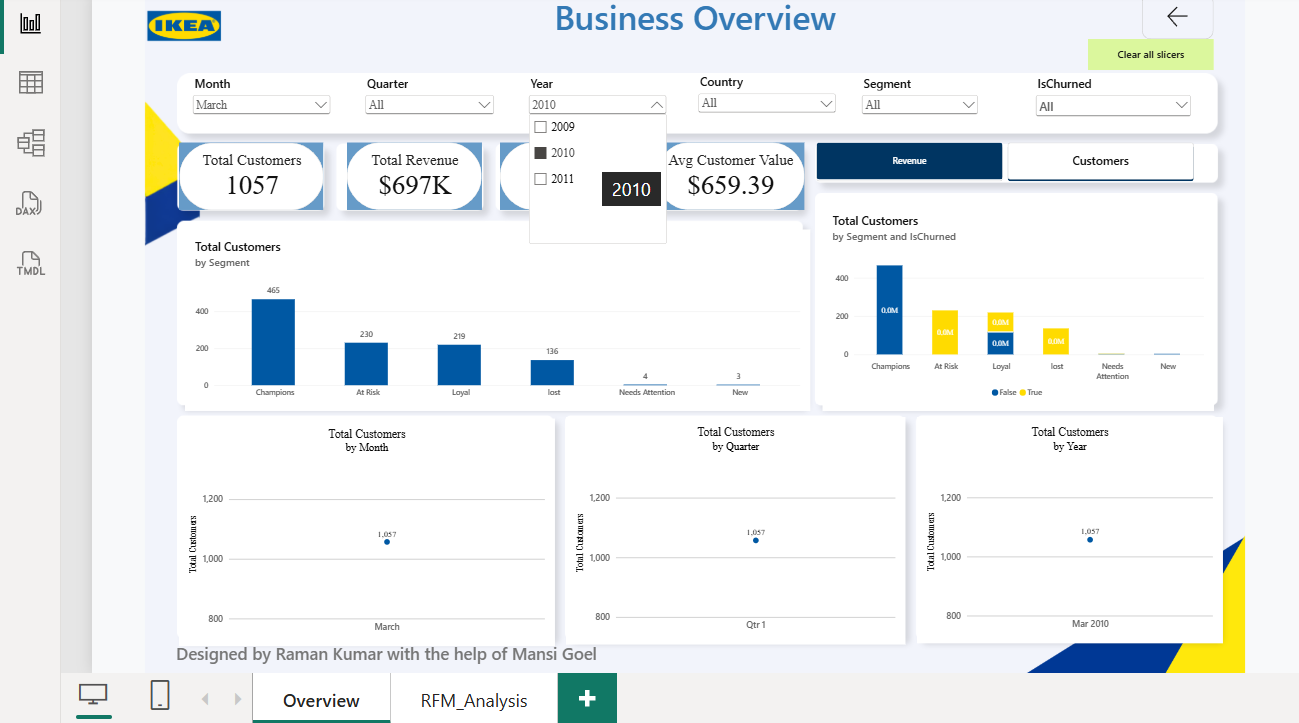

What the dashboard file says about the page in this screenshot:
{"tool":"powerbi","page":{"name":"Overview","canvas":[1920,1080],"ordinal":0},"visuals":[{"type":"cardVisual","fields":{"Data":["Sheet1.Total Customers"]},"box":[138.4,236.2,229,107.4],"z":0},{"type":"lineChart","fields":{"Category":["Sheet1.InvoiceDate.Variation.Date Hierarchy.Month"],"Y":["Sheet1.Total Customers"]},"box":[137.8,673.3,597.8,362.2],"z":0,"group":"g1"},{"type":"cardVisual","fields":{"Data":["Sheet1.Total Revenue"]},"box":[405.6,236.2,214.7,107.4],"z":1000},{"type":"lineChart","fields":{"Category":["Sheet1.InvoiceDate.Variation.Date Hierarchy.Quarter"],"Y":["Sheet1.Total Customers"]},"box":[753.4,671.1,540,362.2],"z":1000,"group":"g1"},{"type":"cardVisual","fields":{"Data":["Sheet1.Churned %"]},"box":[649,236.2,226.7,107.4],"z":2000},{"type":"lineChart","fields":{"Category":["Sheet1.InvoiceDate.Variation.Date Hierarchy.Year"],"Y":["Sheet1.Total Customers"]},"box":[1311.1,671.1,486.7,360],"z":2000,"group":"g1"},{"type":"cardVisual","fields":{"Data":["Sheet1.Avg Customer Value"]},"box":[897.1,236.2,236.2,107.4],"z":3000},{"type":"columnChart","fields":{"Category":["Sheet1.Segment"],"Y":["Sheet1.Total Customers"]},"box":[148.4,372.7,994.9,288.7],"z":3000,"group":"g1"},{"type":"slicer","fields":{"Values":["Sheet1.Segment"]},"box":[1218.8,128.6,195.3,91.5],"z":4000},{"type":"columnChart","fields":{"Category":["Sheet1.Segment"],"Series":["Sheet1.IsChurned"],"Y":["Sheet1.Total Customers"]},"box":[1162.4,332.1,622.7,329.3],"z":4000,"group":"g1"},{"type":"slicer","fields":{"Values":["Sheet1.Country"]},"box":[959.2,126.1,229,90.7],"z":5000},{"type":"bookmarkNavigator","box":[1152.3,240,601.3,57.3],"z":5000,"group":"g1"},{"type":"slicer","fields":{"Values":["Sheet1.InvoiceDate.Variation.Date Hierarchy.Year"]},"box":[689.7,128.6,229,90.7],"z":6000},{"type":"slicer","fields":{"Values":["Sheet1.InvoiceDate.Variation.Date Hierarchy.Quarter"]},"box":[430.2,128.6,214.7,90.7],"z":7000},{"type":"slicer","fields":{"Values":["Sheet1.InvoiceDate.Variation.Date Hierarchy.Month"]},"box":[155.1,128.8,229,90.7],"z":8000},{"type":"pieChart","fields":{"Category":["Sheet1.Segment"],"Series":["Sheet1.IsChurned"],"Y":["Sheet1.Total Revenue"]},"box":[1152.4,322.1,622.7,329.3],"z":9000},{"type":"group","id":"g1","title":"Customers","box":[137.8,240,1660,795.6],"z":10000},{"type":"bookmarkNavigator","box":[1152,237.3,600.7,59.3],"z":12000},{"type":"slicer","fields":{"Values":["Sheet1.IsChurned"]},"box":[1495.6,128.6,257.1,93.9],"z":13000},{"type":"textbox","box":[39.1,0,1841.7,101.4],"z":14000},{"type":"image","box":[39.6,0,212.6,101.4],"z":15000},{"type":"textbox","box":[126.1,1030.9,719.4,49.4],"z":16000},{"type":"actionButton","box":[1671.2,0,113.7,71.7],"z":17000},{"type":"actionButton","box":[1584.6,71.7,200.2,49.4],"z":18000}]}

Visuals, with their boxes on the page's 1920x1080 design canvas (x1, y1, x2, y2). These are canvas units, not pixel positions in the 1299x723 screenshot, which may show the page scaled, cropped or inside an application window:
cardVisual - Sheet1.Total Customers: crop(138, 236, 367, 344)
lineChart - Sheet1.InvoiceDate.Variation.Date Hierarchy.Month x Sheet1.Total Customers: crop(138, 673, 736, 1036)
cardVisual - Sheet1.Total Revenue: crop(406, 236, 620, 344)
lineChart - Sheet1.InvoiceDate.Variation.Date Hierarchy.Quarter x Sheet1.Total Customers: crop(753, 671, 1293, 1033)
cardVisual - Sheet1.Churned %: crop(649, 236, 876, 344)
lineChart - Sheet1.InvoiceDate.Variation.Date Hierarchy.Year x Sheet1.Total Customers: crop(1311, 671, 1798, 1031)
cardVisual - Sheet1.Avg Customer Value: crop(897, 236, 1133, 344)
columnChart - Sheet1.Segment x Sheet1.Total Customers: crop(148, 373, 1143, 661)
slicer - Sheet1.Segment: crop(1219, 129, 1414, 220)
columnChart - Sheet1.Segment x Sheet1.IsChurned: crop(1162, 332, 1785, 661)
slicer - Sheet1.Country: crop(959, 126, 1188, 217)
bookmarkNavigator: crop(1152, 240, 1754, 297)
slicer - Sheet1.InvoiceDate.Variation.Date Hierarchy.Year: crop(690, 129, 919, 219)
slicer - Sheet1.InvoiceDate.Variation.Date Hierarchy.Quarter: crop(430, 129, 645, 219)
slicer - Sheet1.InvoiceDate.Variation.Date Hierarchy.Month: crop(155, 129, 384, 220)
pieChart - Sheet1.Segment x Sheet1.IsChurned: crop(1152, 322, 1775, 651)
"Customers" group: crop(138, 240, 1798, 1036)
bookmarkNavigator: crop(1152, 237, 1753, 297)
slicer - Sheet1.IsChurned: crop(1496, 129, 1753, 222)
textbox: crop(39, 0, 1881, 101)
image: crop(40, 0, 252, 101)
textbox: crop(126, 1031, 846, 1080)
actionButton: crop(1671, 0, 1785, 72)
actionButton: crop(1585, 72, 1785, 121)
